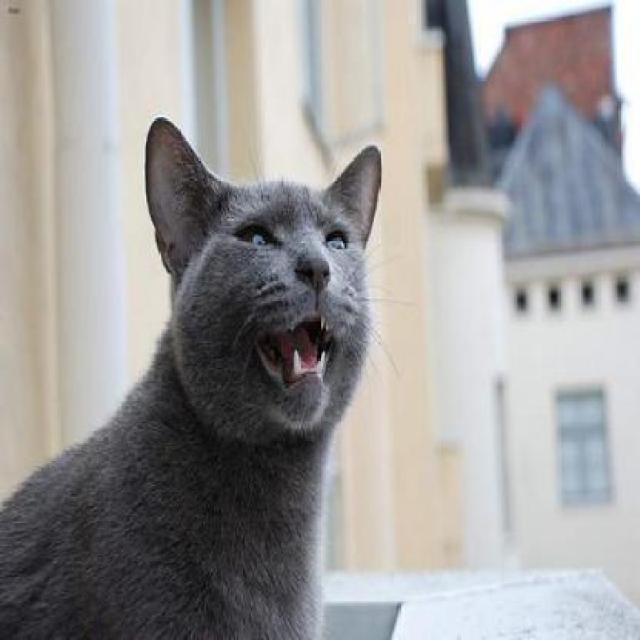cat: (0, 115, 382, 638)
